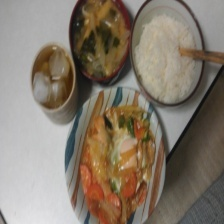rice: (130, 10, 200, 107)
